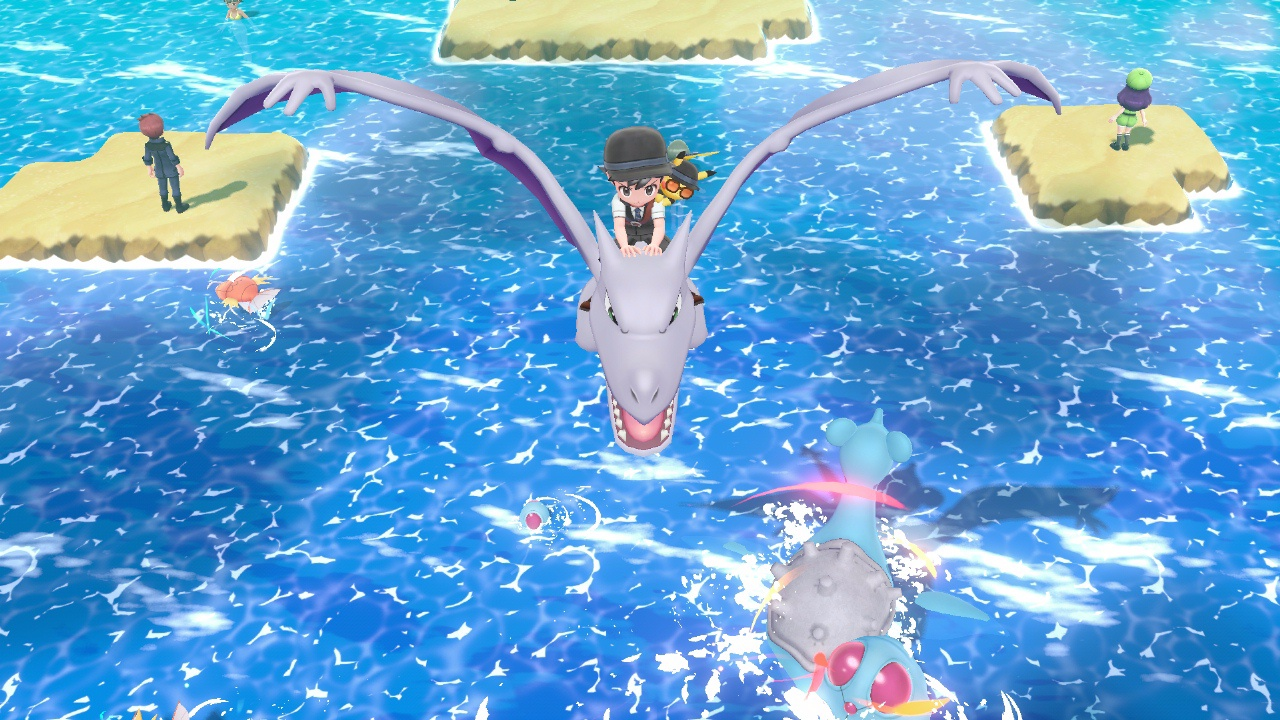Red: (215, 269, 281, 319)
